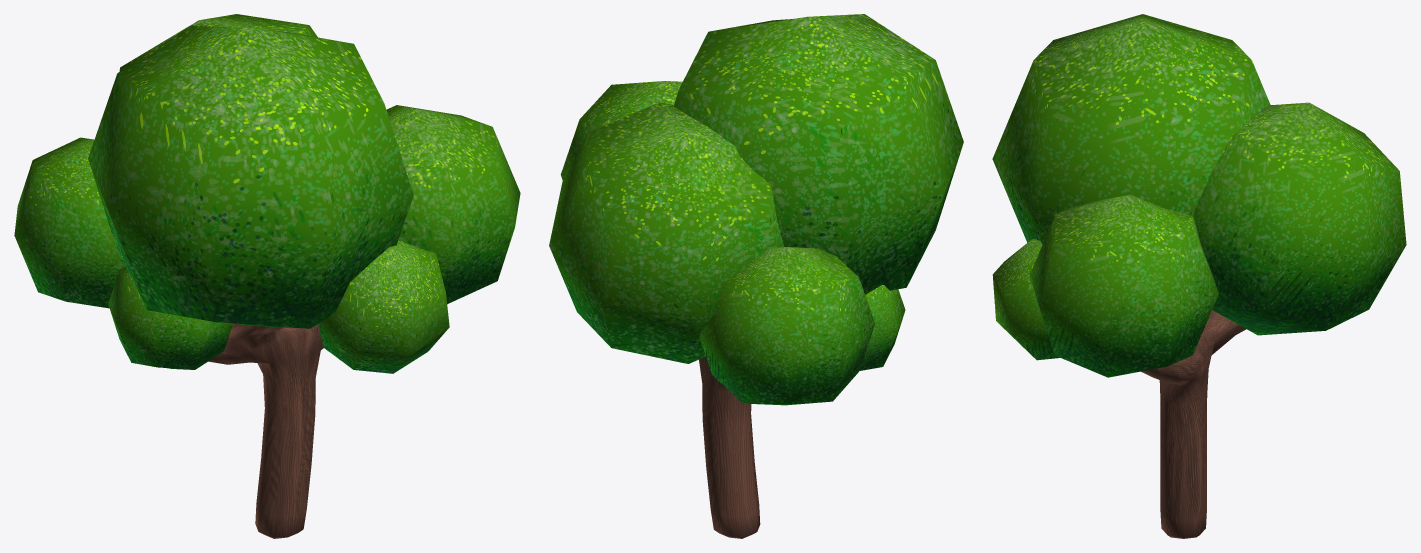
File: Arbol.fbx
The picture shows the model from 3 angles, left to right: view 1: azimuth 30°, elevation 25°; view 2: azimuth 150°, elevation 25°; view 3: azimuth 270°, elevation 25°; orthographic projection. The views are drawn at different scales.
Parts seen in each view (by area): view 1: Cube.004; view 2: Cube.004; view 3: Cube.004.
Part boxes in pixels (x1,y1,x2,y2): Cube.004: [14, 14, 520, 538]; Cube.004: [549, 14, 963, 538]; Cube.004: [992, 14, 1406, 538].
Bounding box in the file's own units: 488 × 637 × 490.
Materials: 2 (2 with a texture image).
